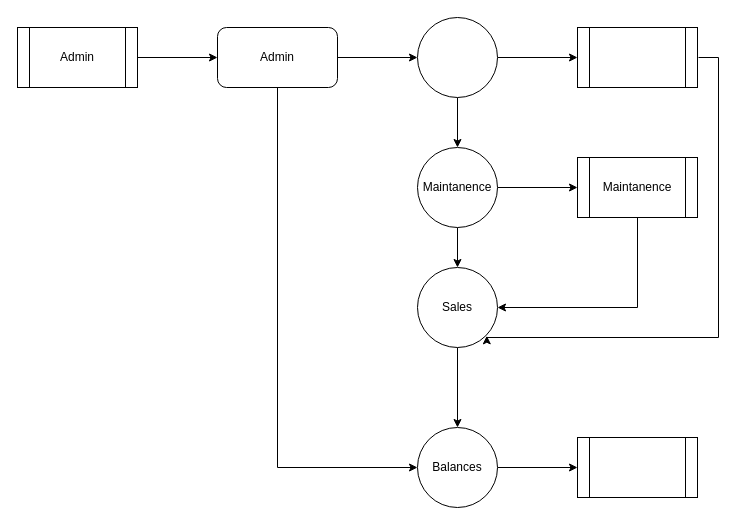
Some shapes in this 744 by 525 pixel diagram are drawn without their labels. Here are the shapes that lost their labels. From the top down, the centre of each, then its label:
At [457,57]: "Add Customers".
At [637,57]: "Customers".
At [637,467]: "Balance".
